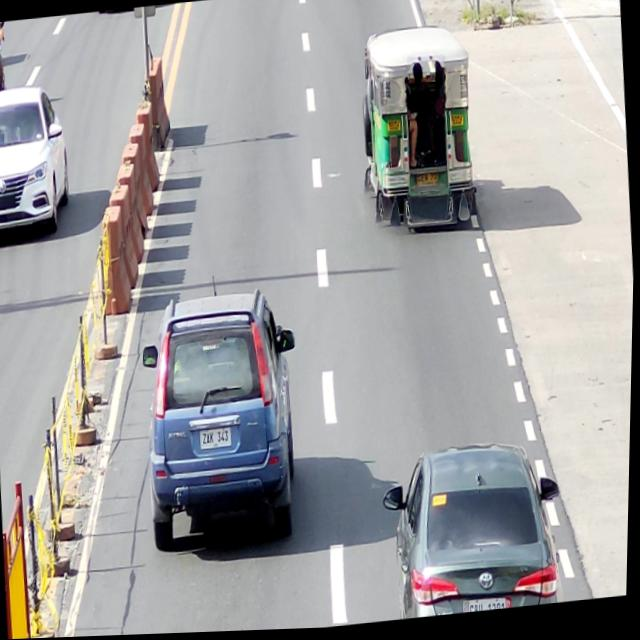Car: (136, 285, 310, 554), (379, 438, 570, 623), (0, 81, 74, 238)
Jeep: (354, 23, 483, 240)
License-Plate: (465, 592, 514, 616), (199, 425, 234, 452), (414, 172, 443, 194)
